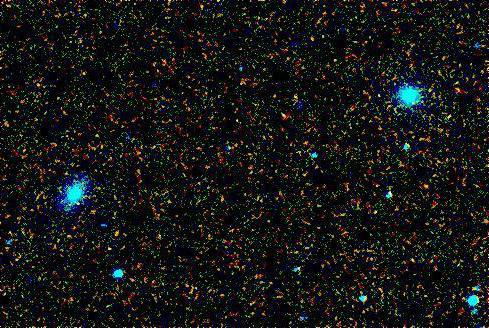star: (359, 197, 389, 227)
